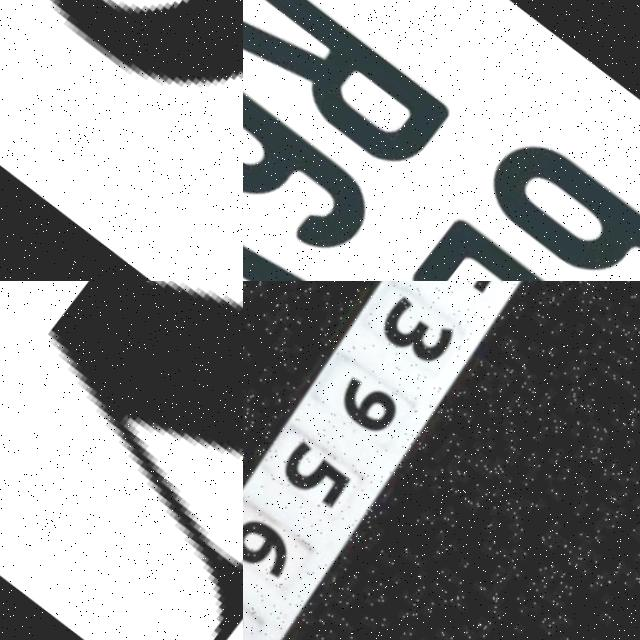0: (243, 561, 278, 640)
3: (361, 281, 484, 384)
5: (263, 415, 382, 526), (413, 281, 532, 308)
6: (243, 44, 390, 263), (473, 122, 640, 281), (243, 490, 325, 595)
9: (319, 349, 430, 453)
E: (401, 204, 640, 281)
N: (0, 281, 243, 640)
R: (243, 0, 460, 180)
S: (0, 0, 243, 277)
V: (243, 135, 326, 281)
